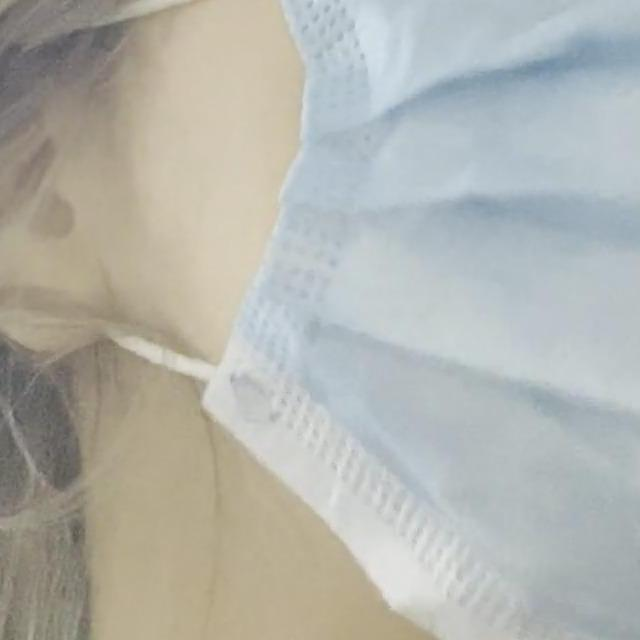Mask: (13, 0, 640, 640)
Person: (0, 0, 640, 640)
